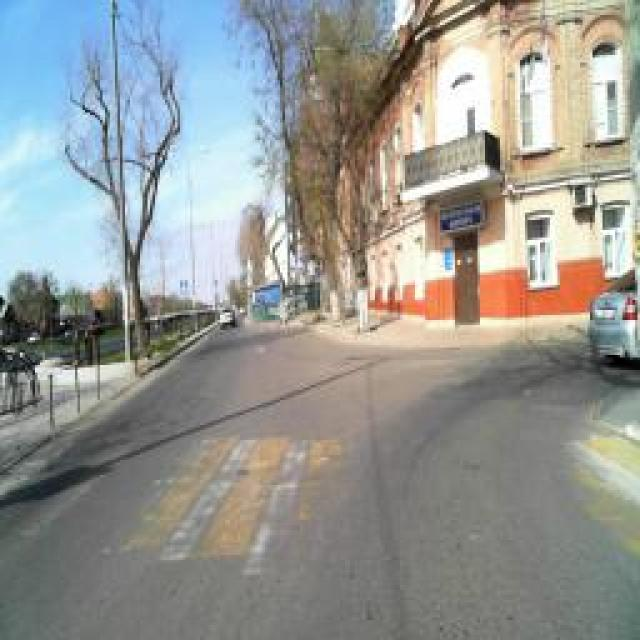sign: (246, 269, 254, 279)
